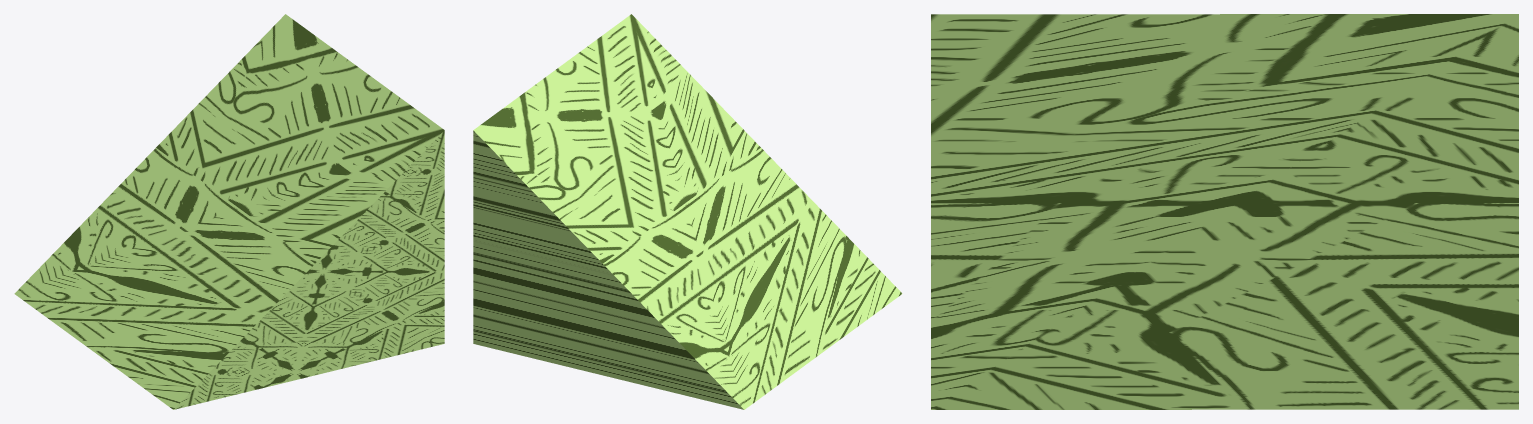
The model's file is Fill.fbx.
The picture shows the model from 3 angles, left to right: view 1: azimuth 30°, elevation 25°; view 2: azimuth 150°, elevation 25°; view 3: azimuth 270°, elevation 25°; orthographic projection. The views are drawn at different scales.
Parts seen in each view (by area): view 1: STAIR.003; view 2: STAIR.003; view 3: STAIR.003.
Boxes of the visible parts, bbox=[...] form: STAIR.003: bbox=[14, 14, 444, 409]; STAIR.003: bbox=[473, 14, 902, 409]; STAIR.003: bbox=[931, 14, 1518, 409].
Bounding box in the file's own units: 442 × 332 × 447.
1 material, 1 textured.
